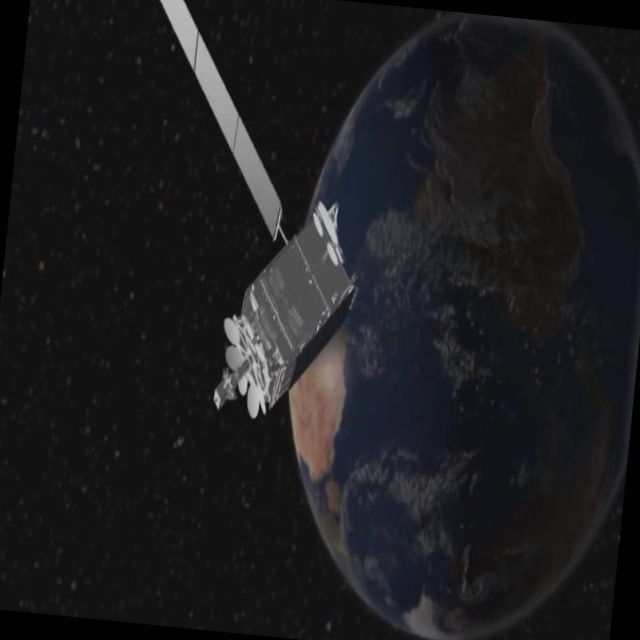medium_debris: (92, 0, 387, 452)
